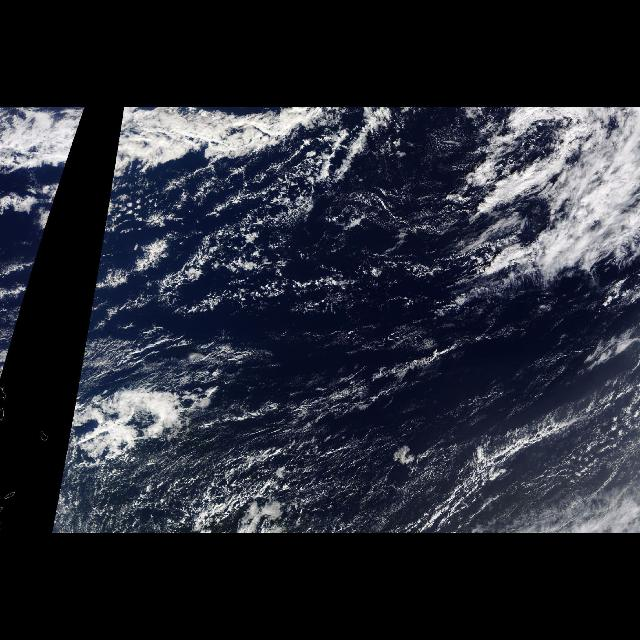Gravel: (178, 400, 548, 528)
Sugar: (191, 372, 584, 526), (187, 182, 445, 332)
